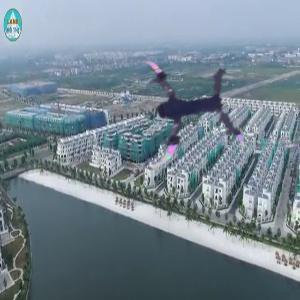drone: (117, 48, 244, 175)
